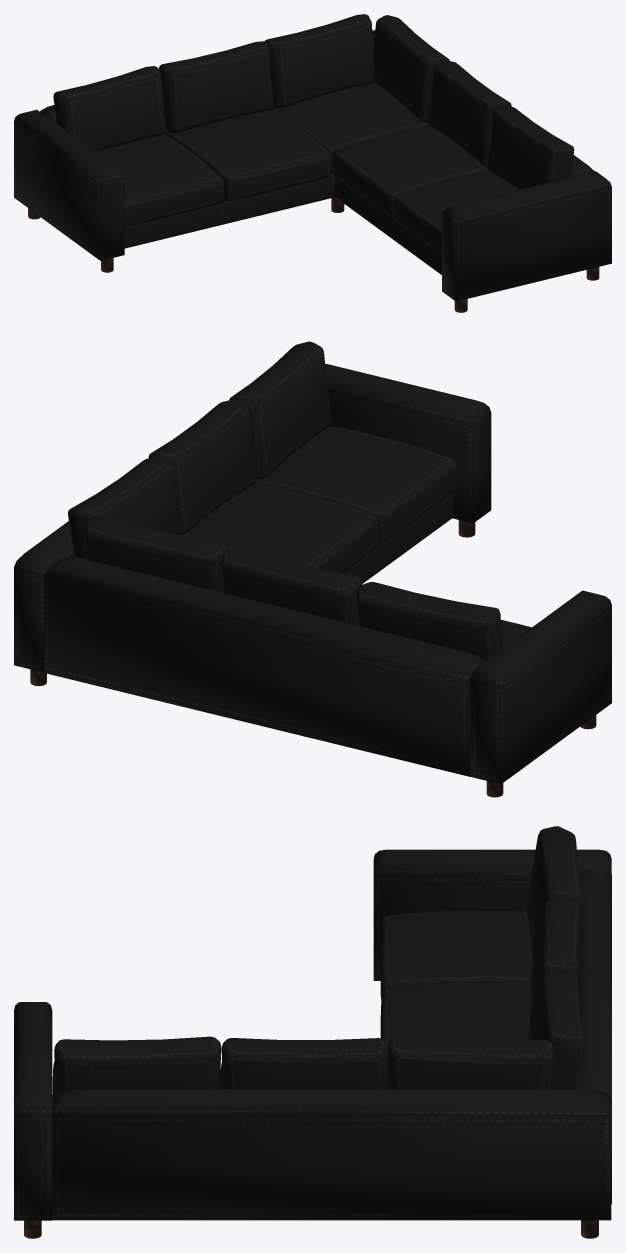
Rendered from SM_AngledSofaLeatherBlack.fbx.
The picture shows the model from 3 angles, top to bottom: view 1: azimuth 30°, elevation 25°; view 2: azimuth 150°, elevation 25°; view 3: azimuth 270°, elevation 25°; orthographic projection. The views are drawn at different scales.
Parts seen in each view (by area): view 1: SM_AngledSofaLeatherBlack_LOD0; view 2: SM_AngledSofaLeatherBlack_LOD0; view 3: SM_AngledSofaLeatherBlack_LOD0.
Boxes of the visible parts, bbox=[...] form: SM_AngledSofaLeatherBlack_LOD0: bbox=[14, 14, 611, 312]; SM_AngledSofaLeatherBlack_LOD0: bbox=[14, 341, 611, 797]; SM_AngledSofaLeatherBlack_LOD0: bbox=[14, 826, 611, 1238].
Size of the model in its own units: 315 by 311 by 103.
1 material, 1 textured.
